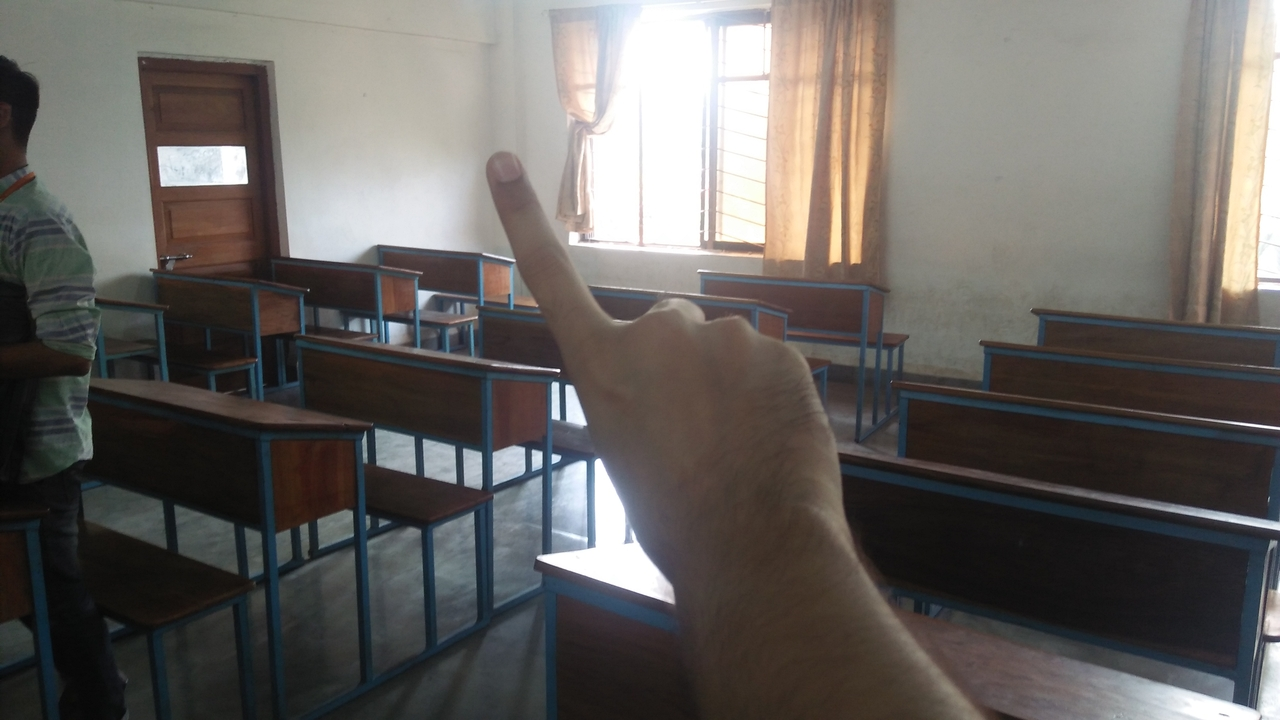fingertip: (476, 146, 530, 194)
